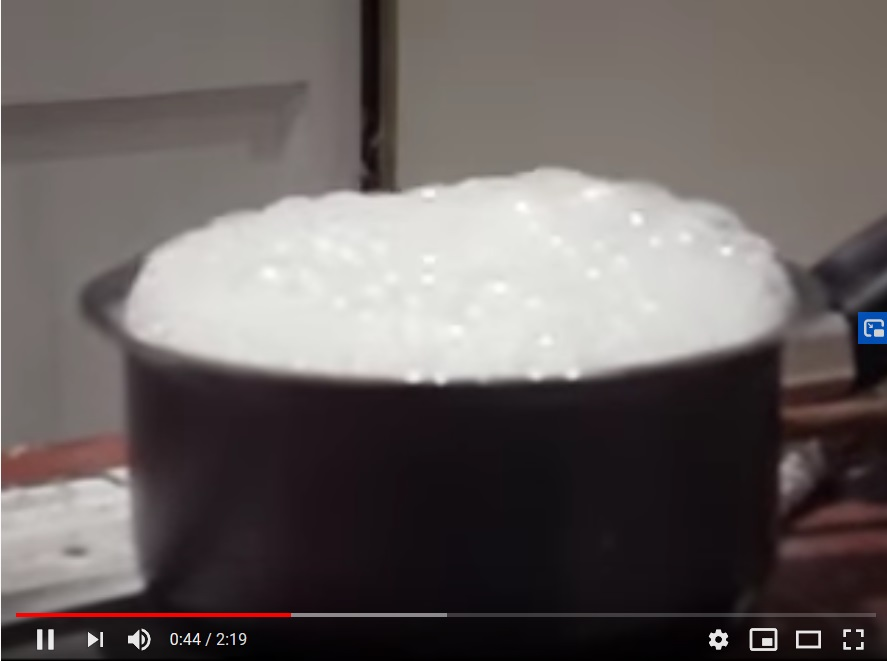Boiled: (62, 164, 795, 493)
